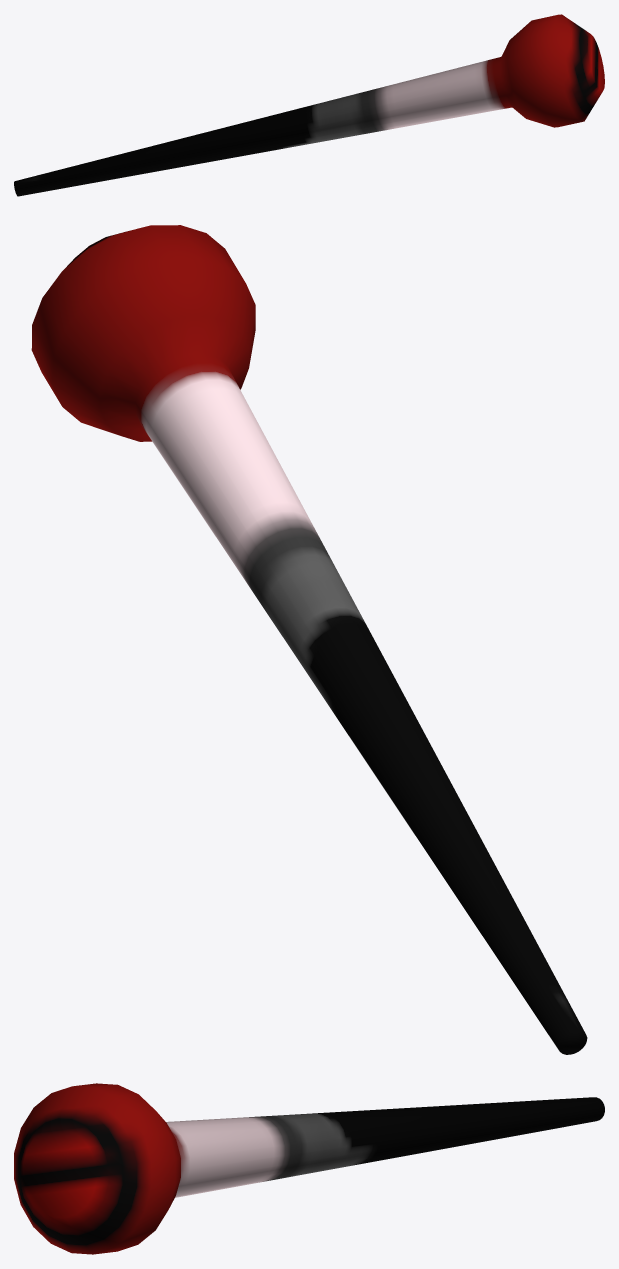
File: Needle_Anim.fbx
The picture shows the model from 3 angles, top to bottom: view 1: azimuth 30°, elevation 25°; view 2: azimuth 150°, elevation 25°; view 3: azimuth 270°, elevation 25°; orthographic projection. The views are drawn at different scales.
Visible parts, largest first — view 1: Needle; view 2: Needle; view 3: Needle.
Part boxes in pixels (box(x1,y1,x2,y2)): Needle: box(14, 14, 604, 196); Needle: box(31, 225, 587, 1054); Needle: box(14, 1083, 604, 1254).
Bounding box in the file's own units: 0.7488 × 0.3431 × 0.5892.
1 material, 1 textured.
